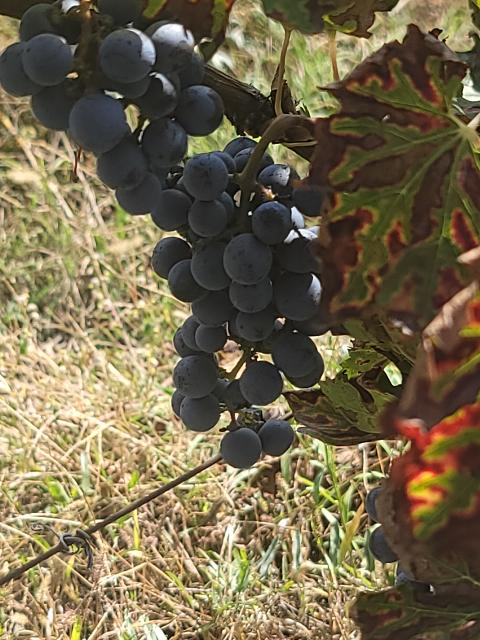grapes: (152, 145, 326, 468), (0, 5, 224, 214)
